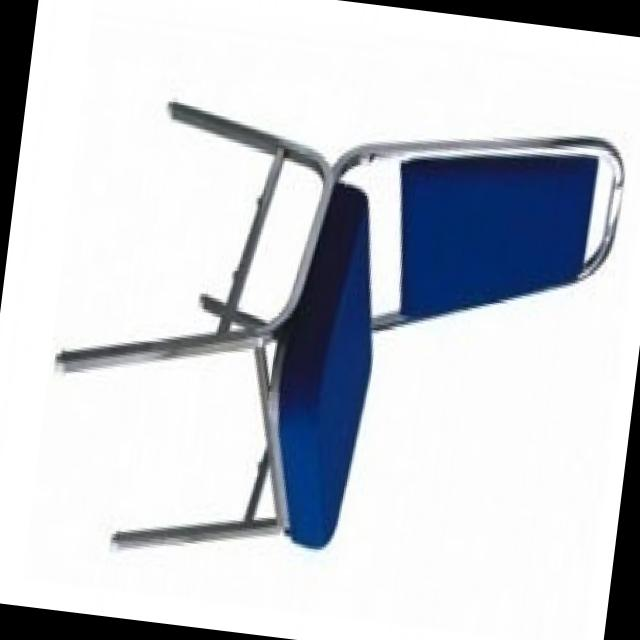Chair: (33, 75, 628, 608)
